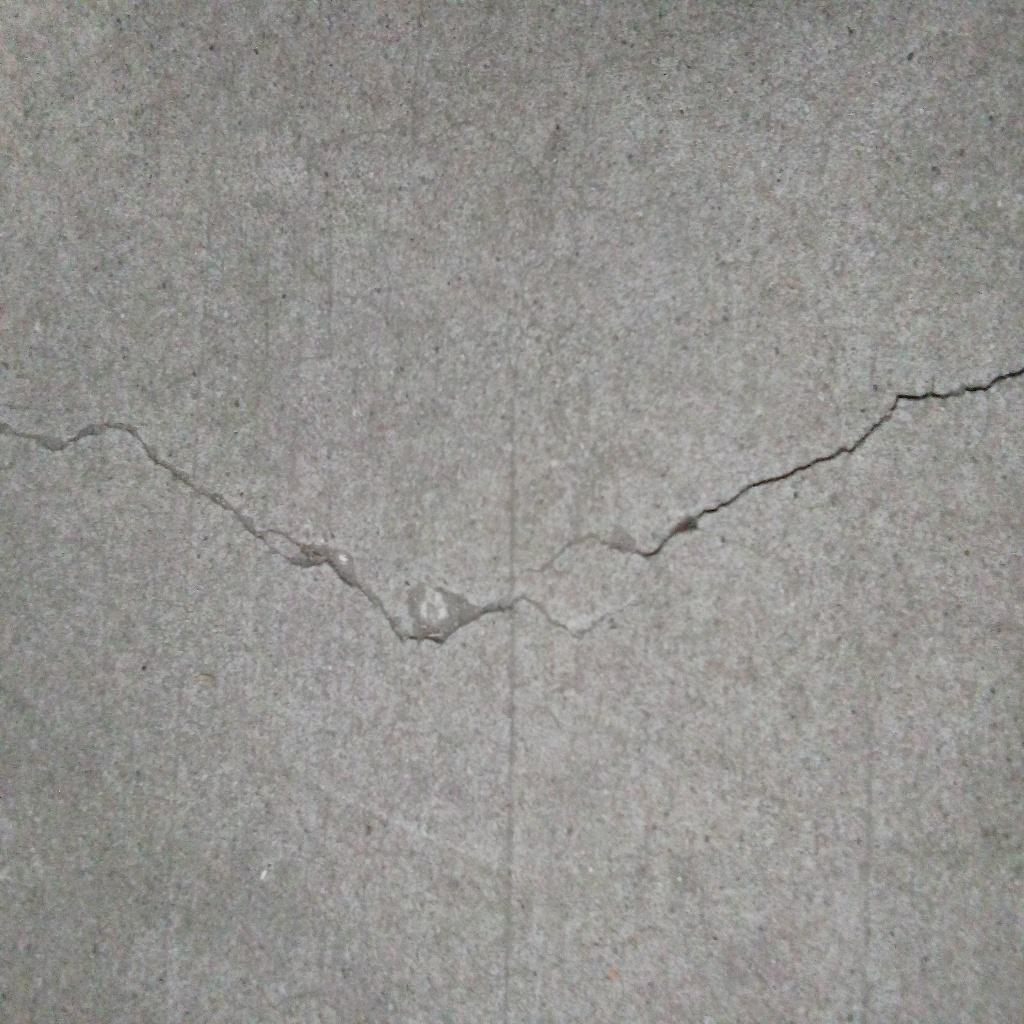Crack: (1, 421, 642, 646), (525, 370, 1024, 576)
